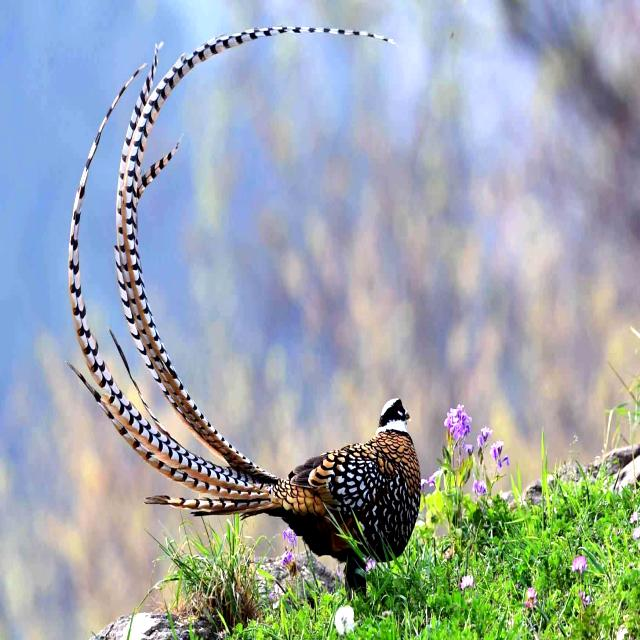Reeves-s Pheasant: (64, 24, 400, 523)
